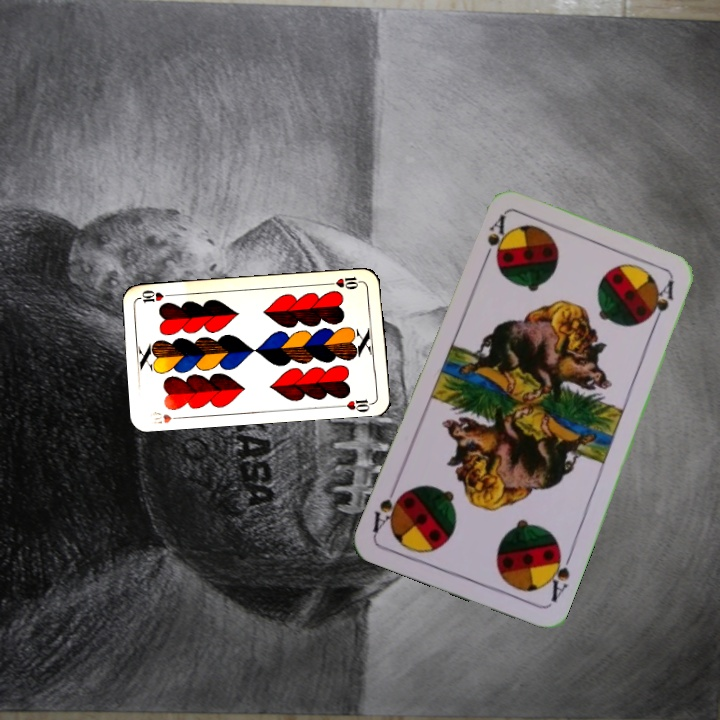H10: (324, 272, 365, 292), (147, 407, 186, 427)
SA: (541, 545, 575, 605), (478, 211, 509, 268)
